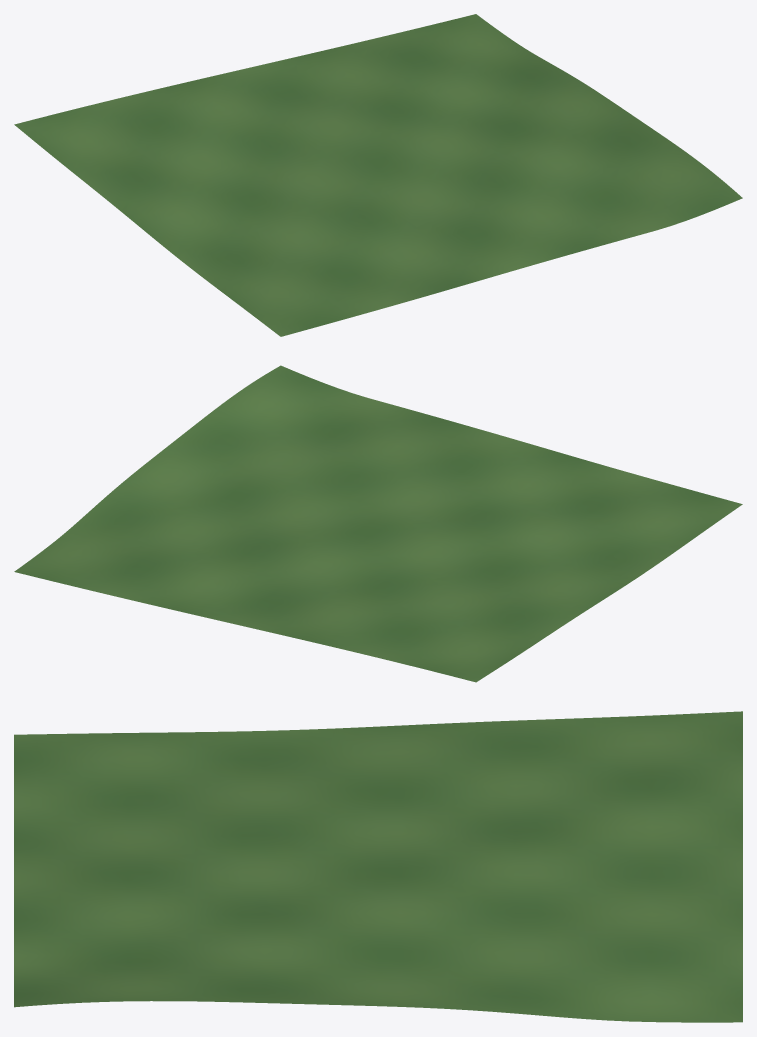
File: chunk_9_10.glb
3 views of the same model, one above another, from view 1: azimuth 30°, elevation 25°; view 2: azimuth 150°, elevation 25°; view 3: azimuth 270°, elevation 25° (orthographic). The views are drawn at different scales.
Size of the model in its own units: 512 by 32.28 by 512.
